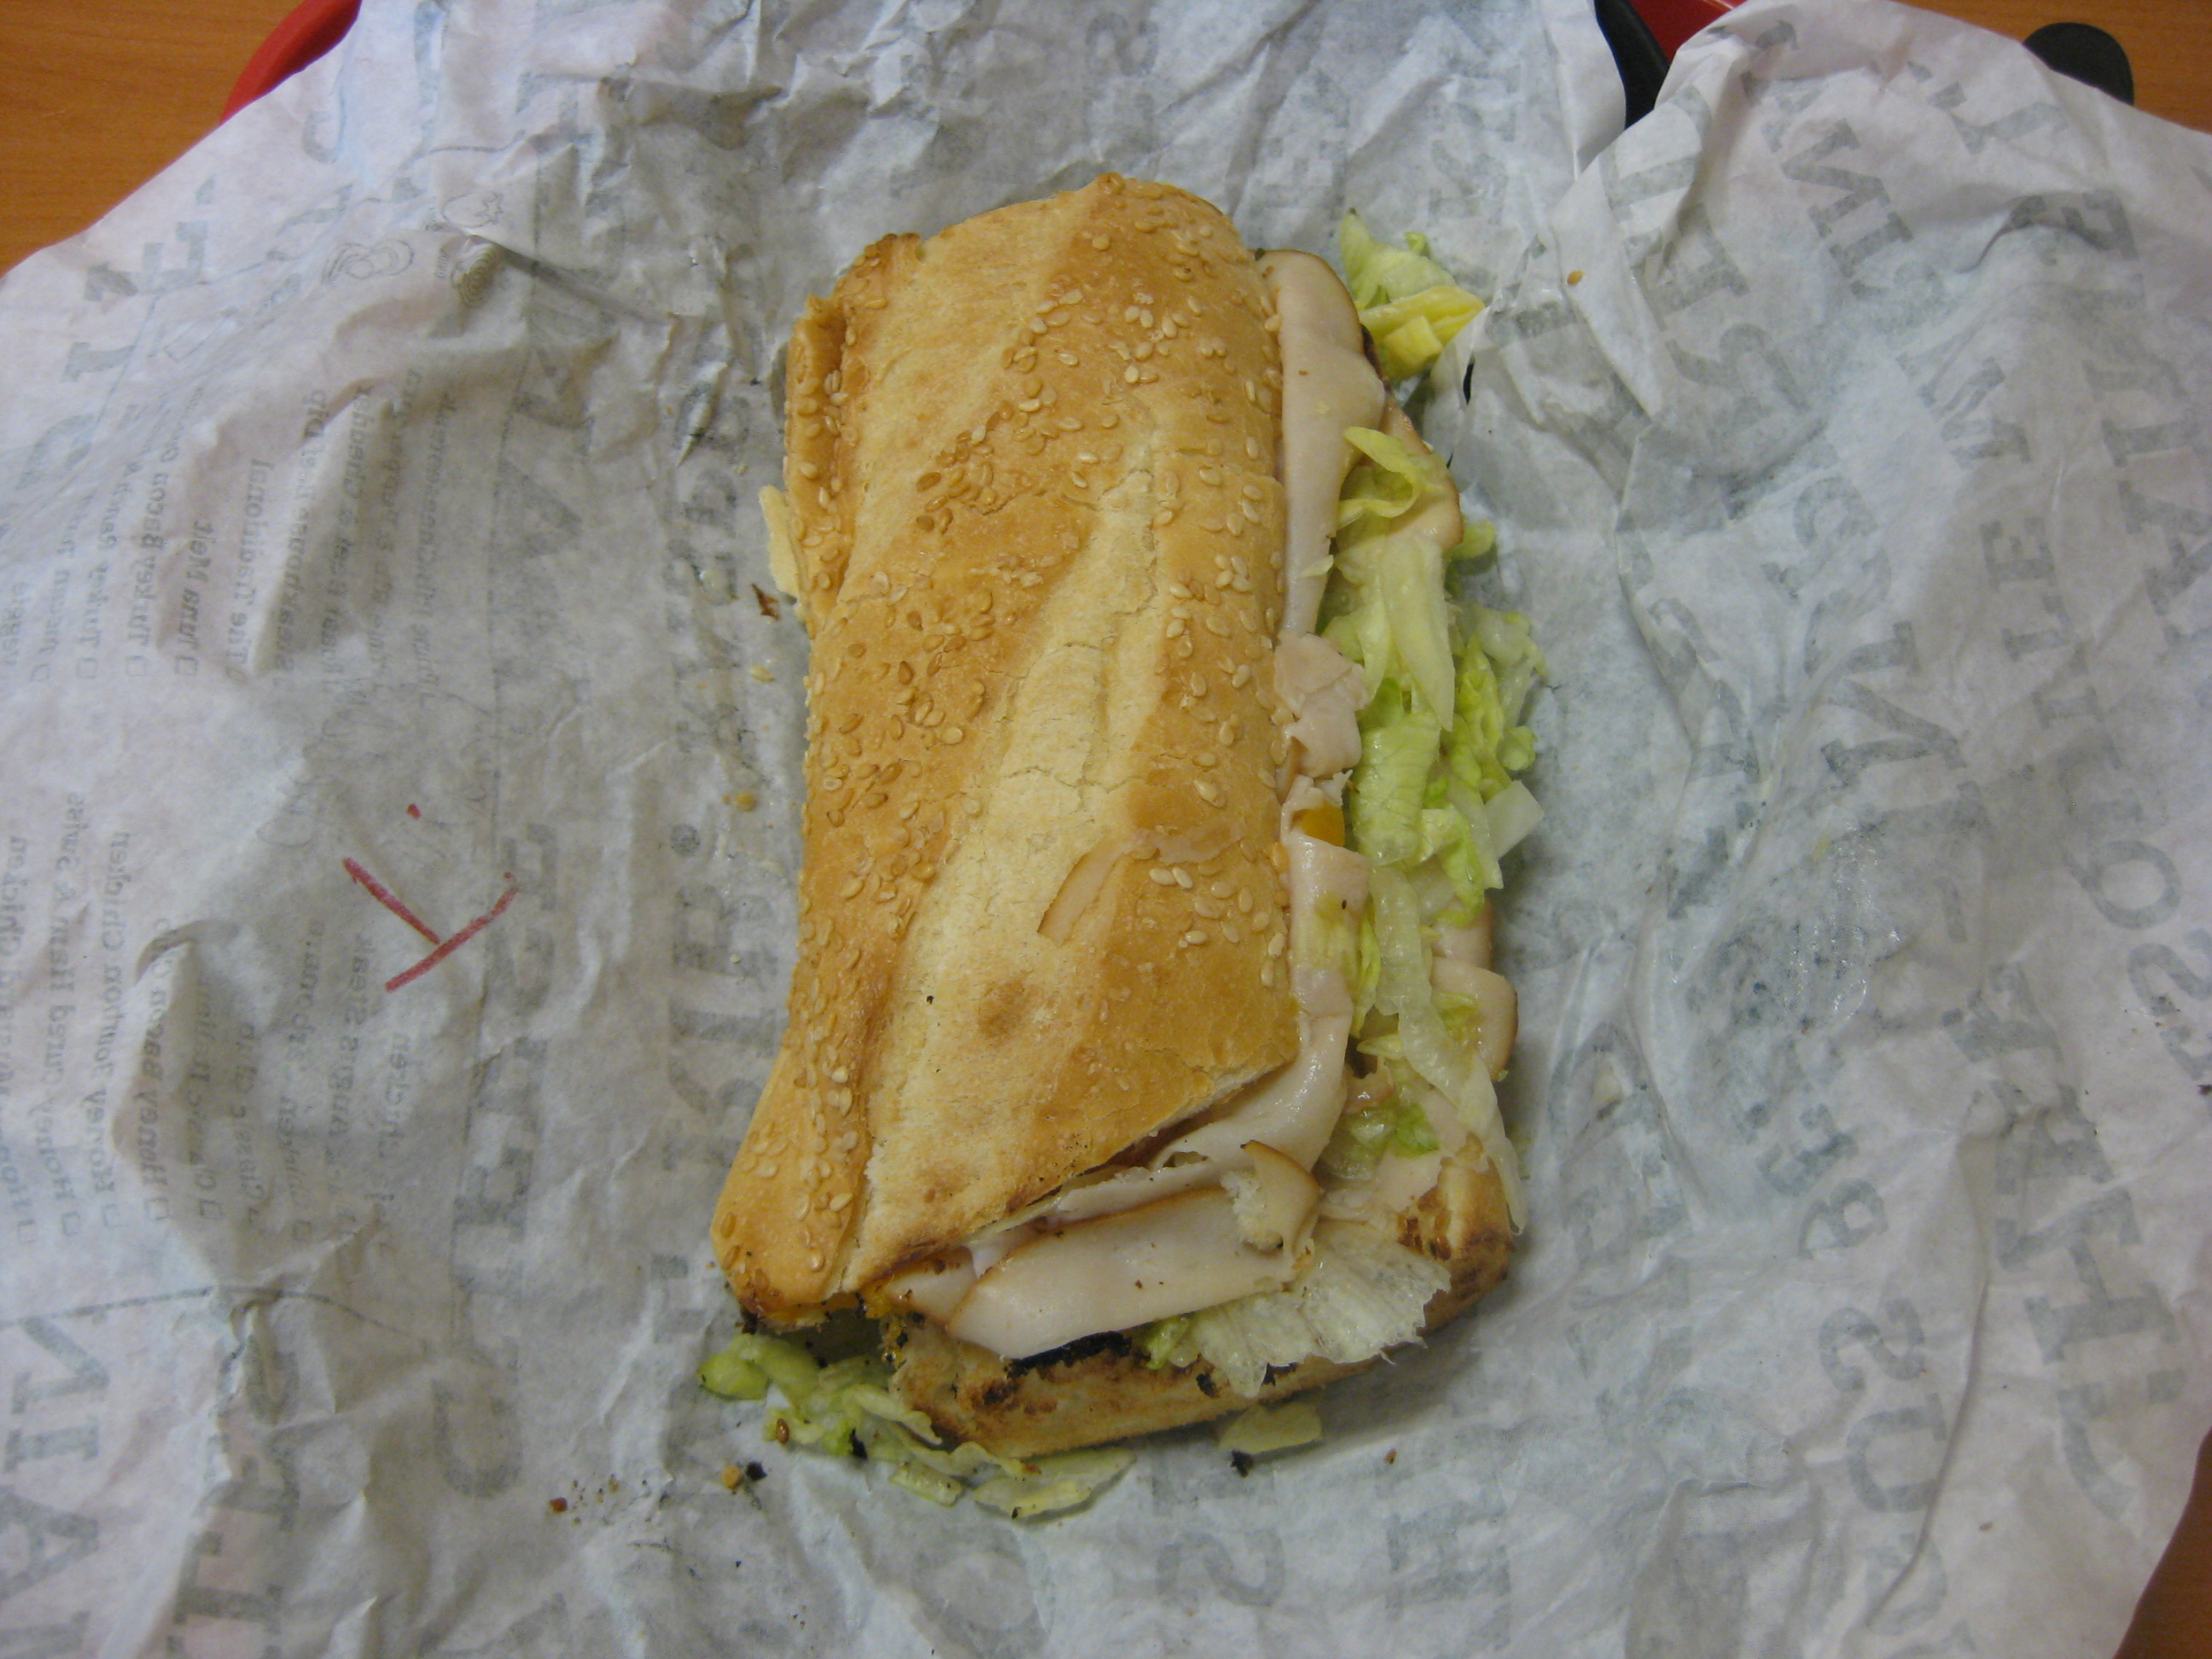sub: (777, 176, 1553, 1463)
